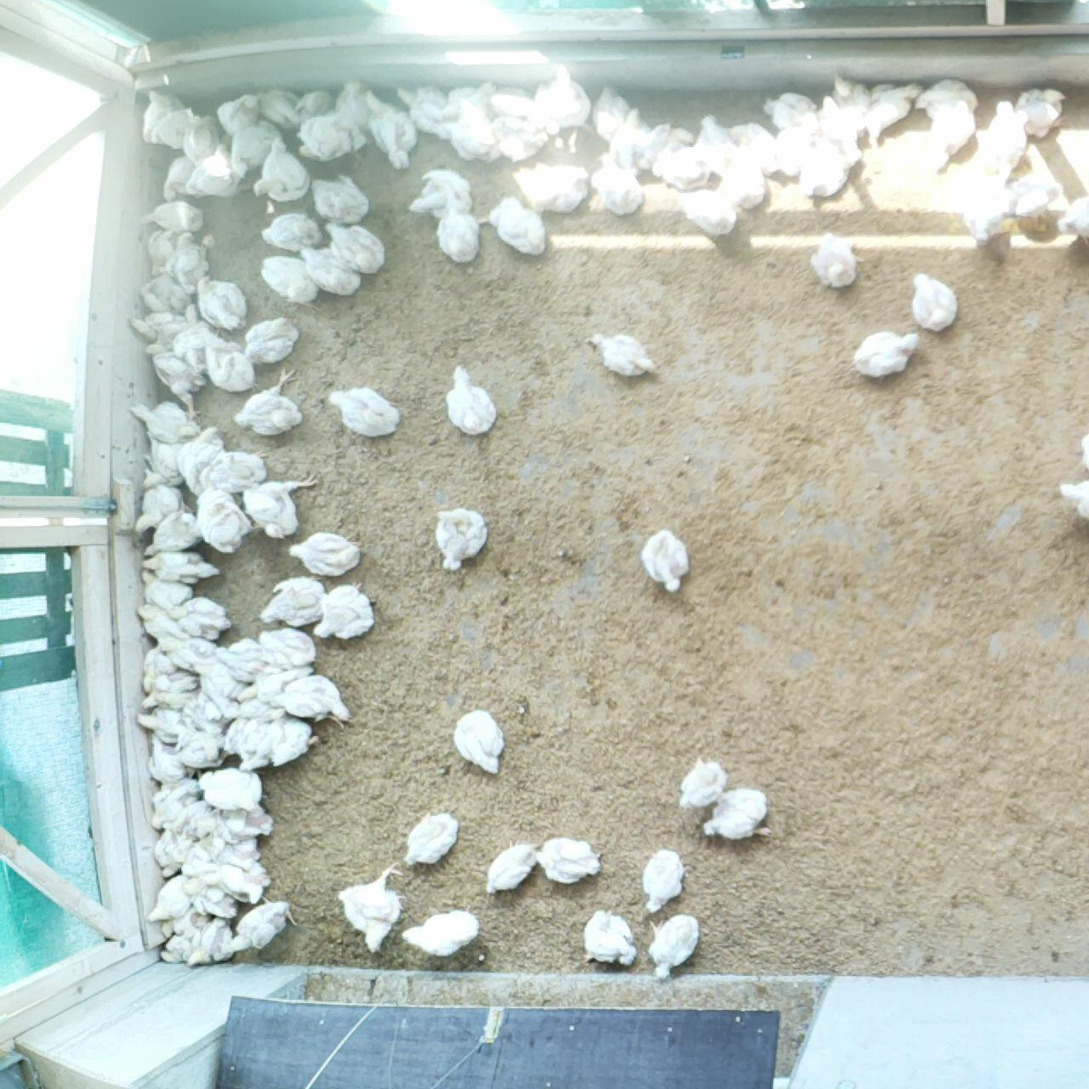chicken: (331, 858, 412, 960), (240, 470, 325, 546), (232, 362, 312, 439), (267, 671, 356, 733), (143, 341, 208, 423), (507, 160, 592, 220), (399, 902, 486, 959), (699, 784, 773, 851), (530, 827, 606, 891), (224, 892, 301, 955), (359, 86, 418, 168), (193, 483, 257, 557), (284, 524, 368, 580), (312, 576, 377, 648), (479, 195, 552, 259), (863, 78, 923, 153), (575, 902, 640, 971), (450, 705, 509, 781), (431, 502, 492, 575), (585, 150, 645, 224), (443, 361, 502, 436), (249, 136, 312, 205), (641, 913, 703, 983), (584, 326, 661, 382), (327, 382, 402, 439), (295, 239, 365, 300), (981, 95, 1031, 180), (924, 97, 979, 174), (257, 573, 331, 630), (637, 522, 693, 597), (318, 219, 388, 278), (405, 165, 477, 222), (398, 807, 463, 869), (176, 421, 229, 497), (959, 170, 1011, 247), (126, 481, 196, 538), (672, 184, 743, 240), (808, 226, 867, 293), (534, 60, 592, 127), (188, 654, 246, 720), (255, 251, 322, 308), (851, 327, 923, 380), (906, 268, 962, 336), (160, 595, 236, 645), (199, 331, 258, 395), (308, 171, 374, 228), (196, 445, 274, 493), (676, 749, 730, 818), (482, 837, 544, 897), (125, 395, 199, 445), (635, 846, 687, 917), (442, 98, 497, 165), (433, 198, 484, 269), (236, 661, 316, 706), (296, 110, 360, 166), (196, 767, 269, 816), (232, 704, 283, 774), (716, 149, 773, 211), (486, 113, 549, 168), (185, 141, 244, 199), (134, 433, 191, 493), (694, 108, 740, 181), (148, 773, 203, 834), (266, 713, 320, 775), (725, 116, 778, 179), (181, 913, 238, 970), (194, 273, 248, 333), (913, 70, 979, 119), (630, 119, 694, 169), (245, 311, 302, 367), (165, 234, 218, 294), (605, 104, 653, 170), (210, 629, 271, 680), (1014, 171, 1065, 232), (769, 117, 818, 180), (252, 626, 319, 672), (393, 81, 449, 136), (230, 119, 286, 174), (1015, 84, 1069, 141), (139, 549, 221, 586), (258, 210, 325, 255), (826, 71, 871, 137), (140, 873, 196, 926), (589, 78, 636, 140), (142, 728, 191, 784), (138, 85, 179, 151), (135, 197, 205, 235), (158, 632, 221, 674), (215, 803, 277, 845), (156, 914, 203, 968), (138, 568, 194, 613), (152, 827, 197, 882), (136, 674, 201, 712), (179, 878, 239, 919), (221, 860, 274, 906), (133, 704, 193, 744), (252, 85, 303, 132), (331, 76, 373, 133), (441, 77, 496, 119), (175, 728, 225, 773), (762, 87, 815, 129), (482, 79, 536, 120), (214, 90, 260, 138), (140, 269, 192, 311), (151, 105, 197, 151), (180, 111, 218, 166), (135, 602, 187, 642), (139, 640, 176, 696), (157, 154, 200, 202), (1054, 189, 1089, 247), (157, 304, 199, 351), (179, 835, 225, 877), (1053, 477, 1089, 520), (145, 225, 175, 276), (126, 309, 176, 338), (219, 834, 261, 866), (293, 86, 335, 117)
